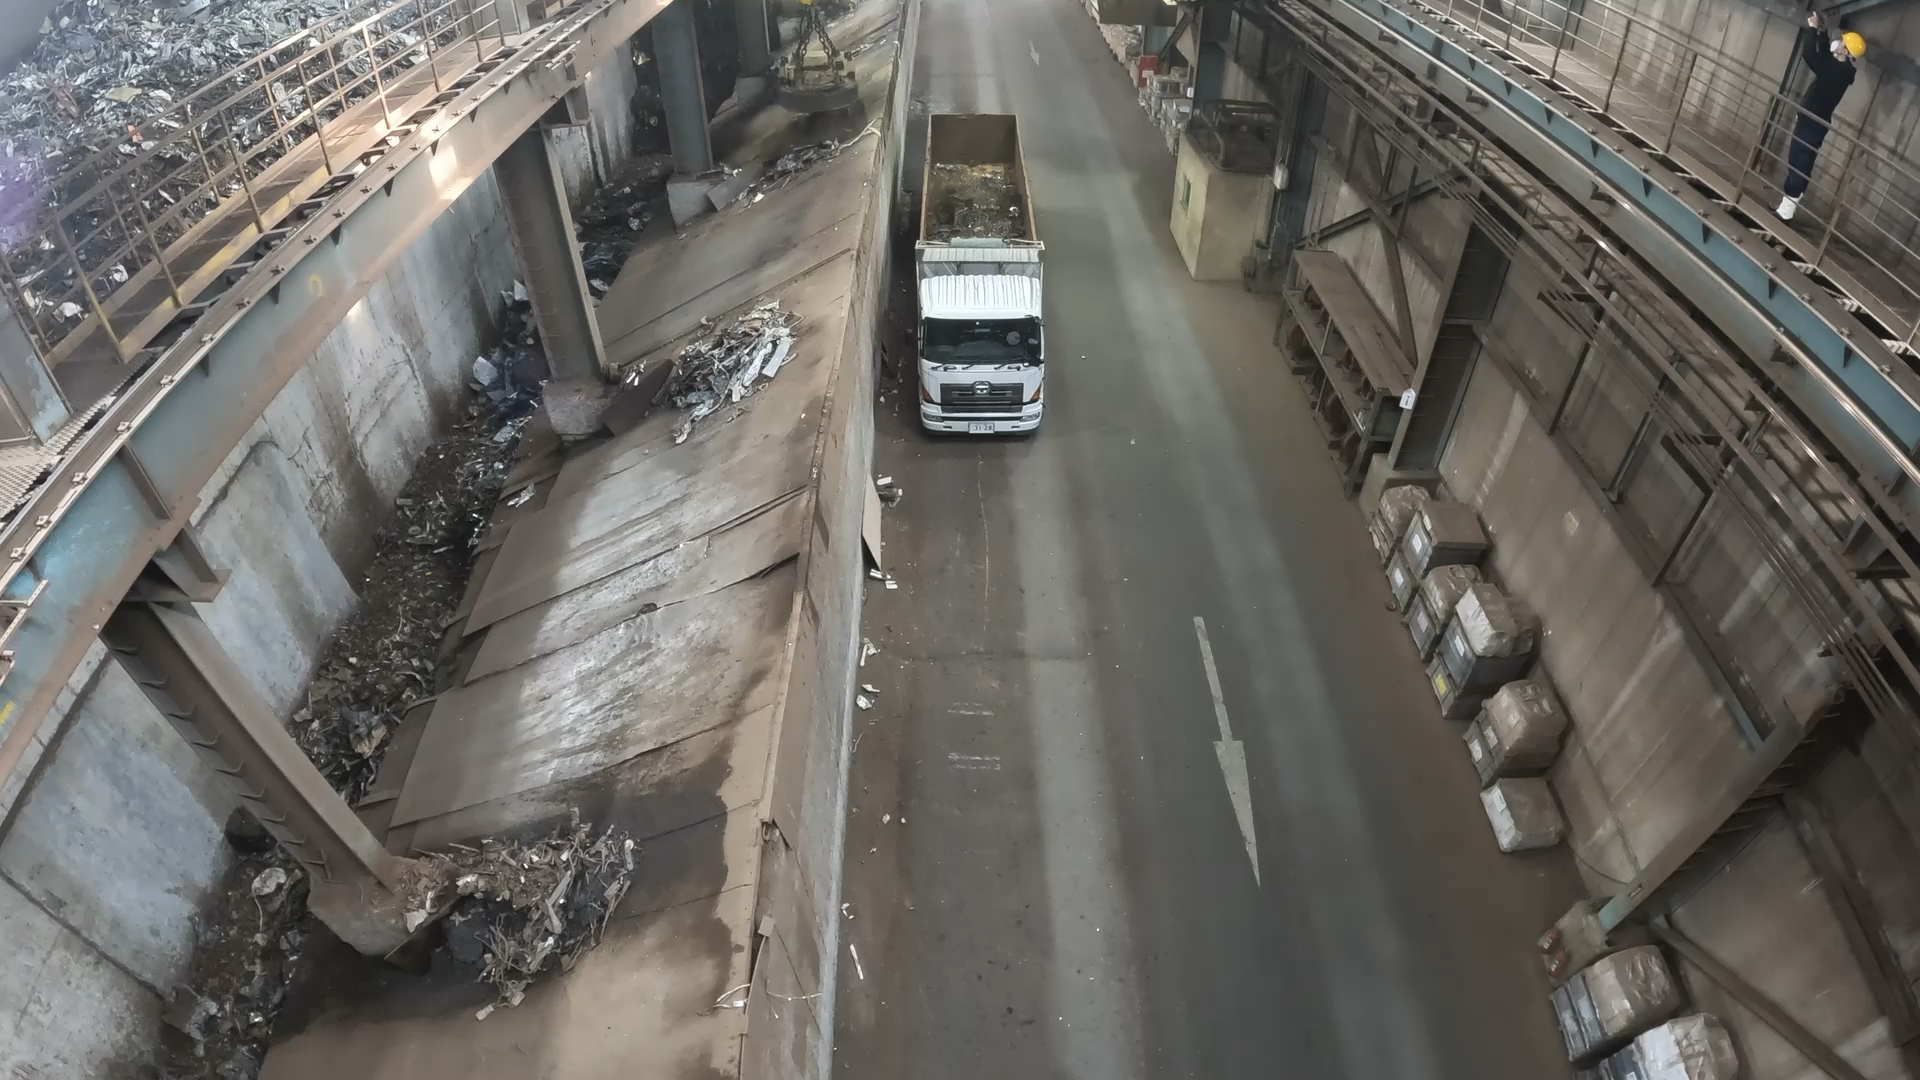truck: (920, 112, 1036, 247)
